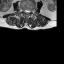CCS_stenosis: (26, 8, 28, 16)
LFS_normal: (30, 8, 32, 14)
LLS_normal: (28, 8, 30, 15)
RFS_normal: (22, 7, 24, 14)
RLS_normal: (24, 8, 26, 14)
